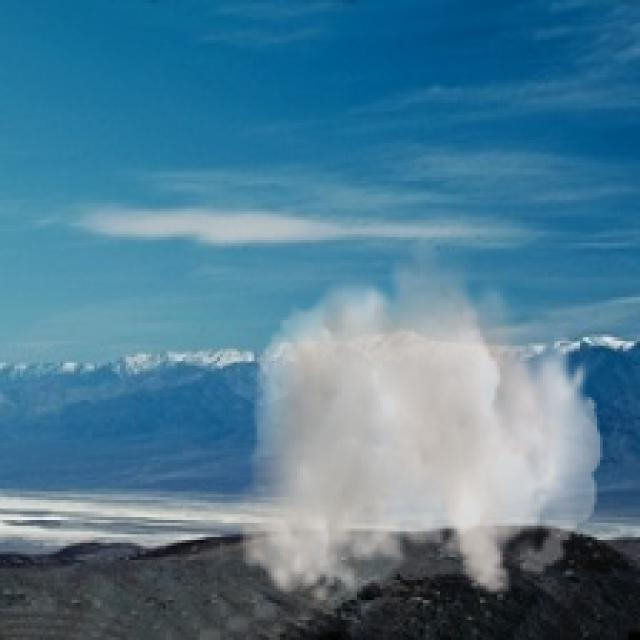Smoke: (237, 231, 603, 606)
